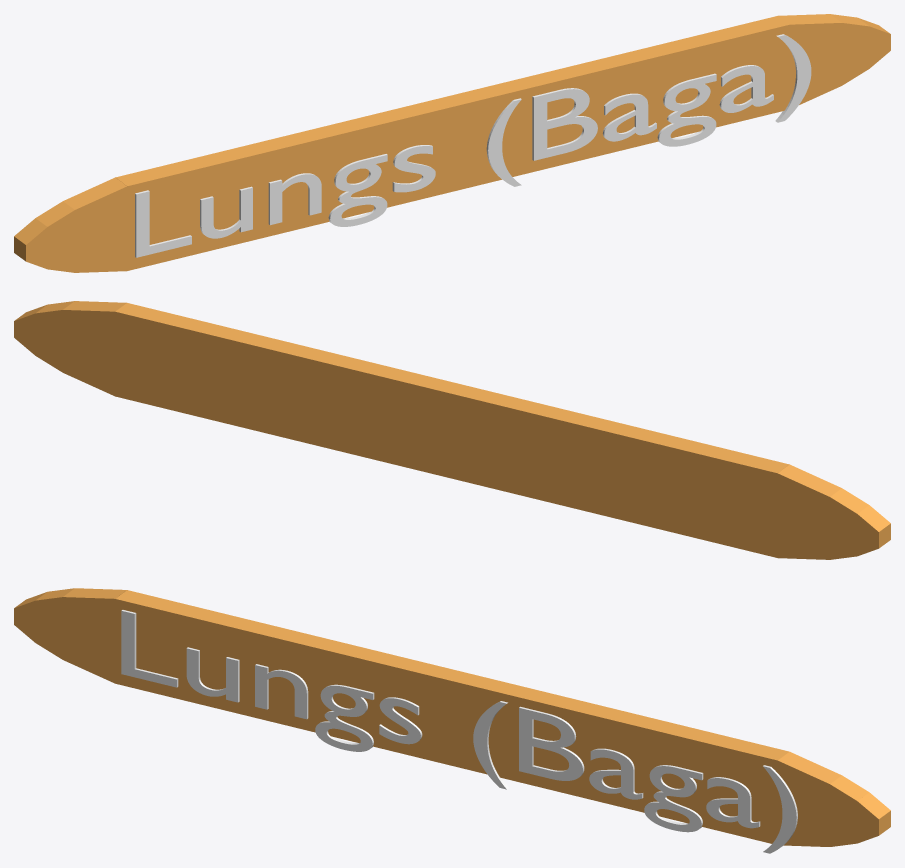
Rendered from txtLungs.fbx.
The picture shows the model from 3 angles, top to bottom: view 1: azimuth 30°, elevation 25°; view 2: azimuth 150°, elevation 25°; view 3: azimuth 330°, elevation 25°; orthographic projection.
Visible parts, largest first — view 1: TagContainer.081, Text.082; view 2: TagContainer.081; view 3: TagContainer.081, Text.082.
Boxes of the visible parts, box(x1,y1,x2,y2) form: TagContainer.081: box(14, 14, 890, 272); Text.082: box(135, 34, 811, 257); TagContainer.081: box(14, 301, 890, 559); TagContainer.081: box(14, 588, 890, 846); Text.082: box(121, 610, 797, 853).
Bounding box in the file's own units: 441 × 45.66 × 11.92.
